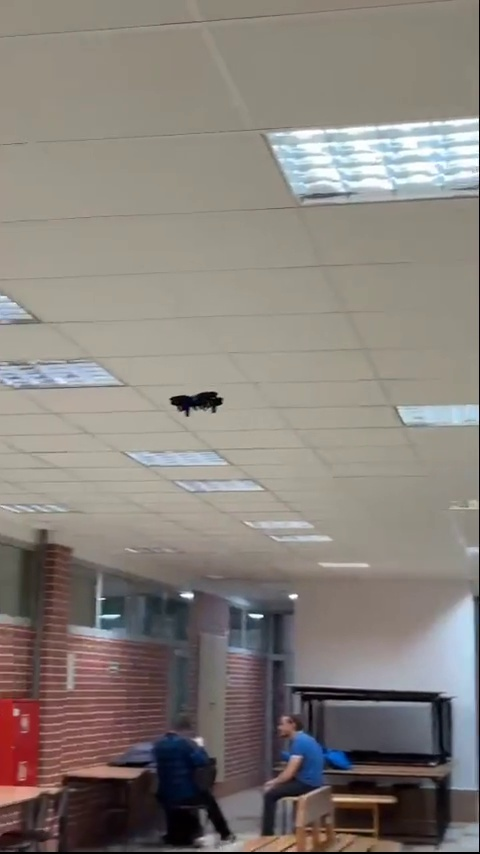drone: (170, 388, 223, 414)
no vest: (150, 705, 243, 840), (260, 706, 340, 822)
